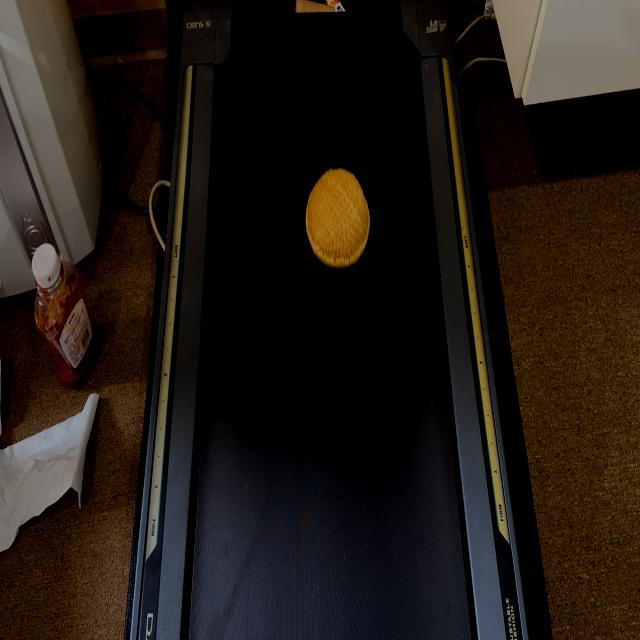Recycle: (292, 0, 335, 14)
Trash: (305, 168, 371, 268), (326, 0, 344, 12)
